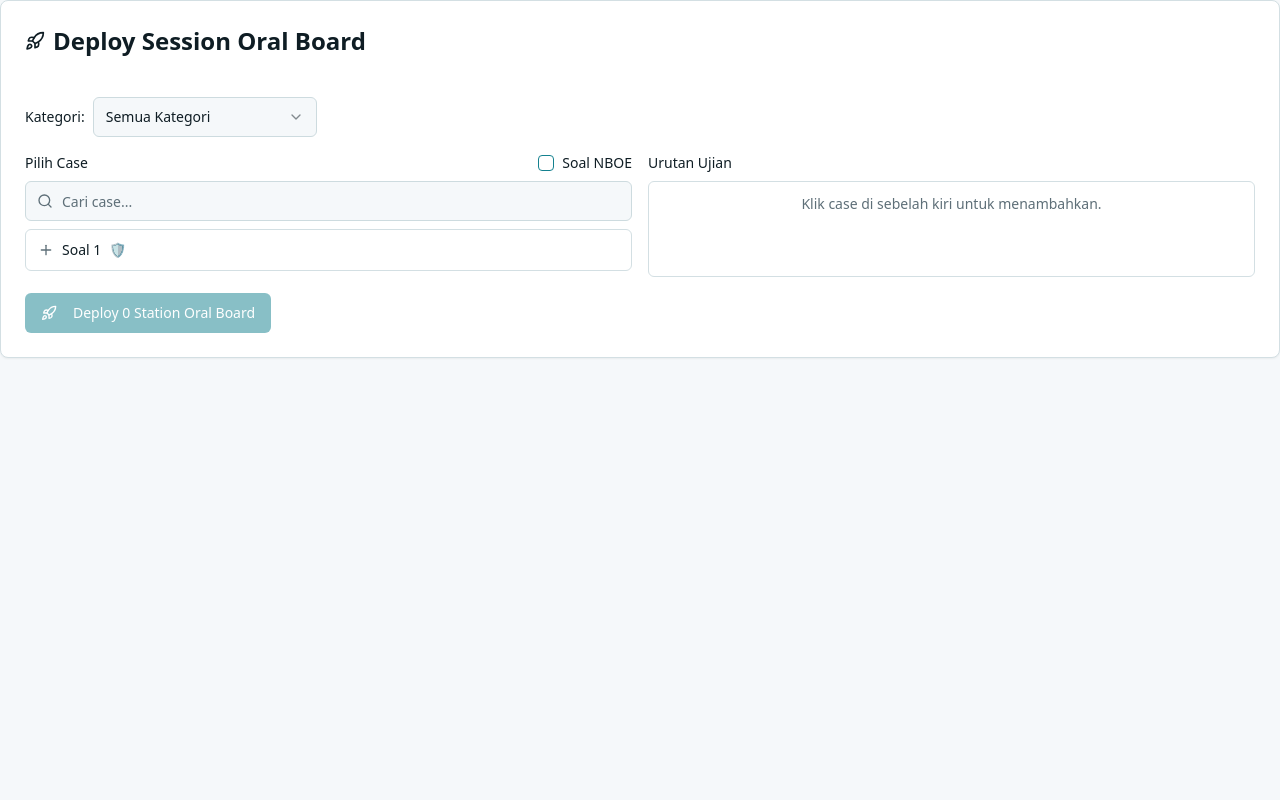
it: does not silently present a permission failure as an empty examiner directory
Click the button "Soal 1🛡️".
click(82, 250)  # box [26,230,631,270]
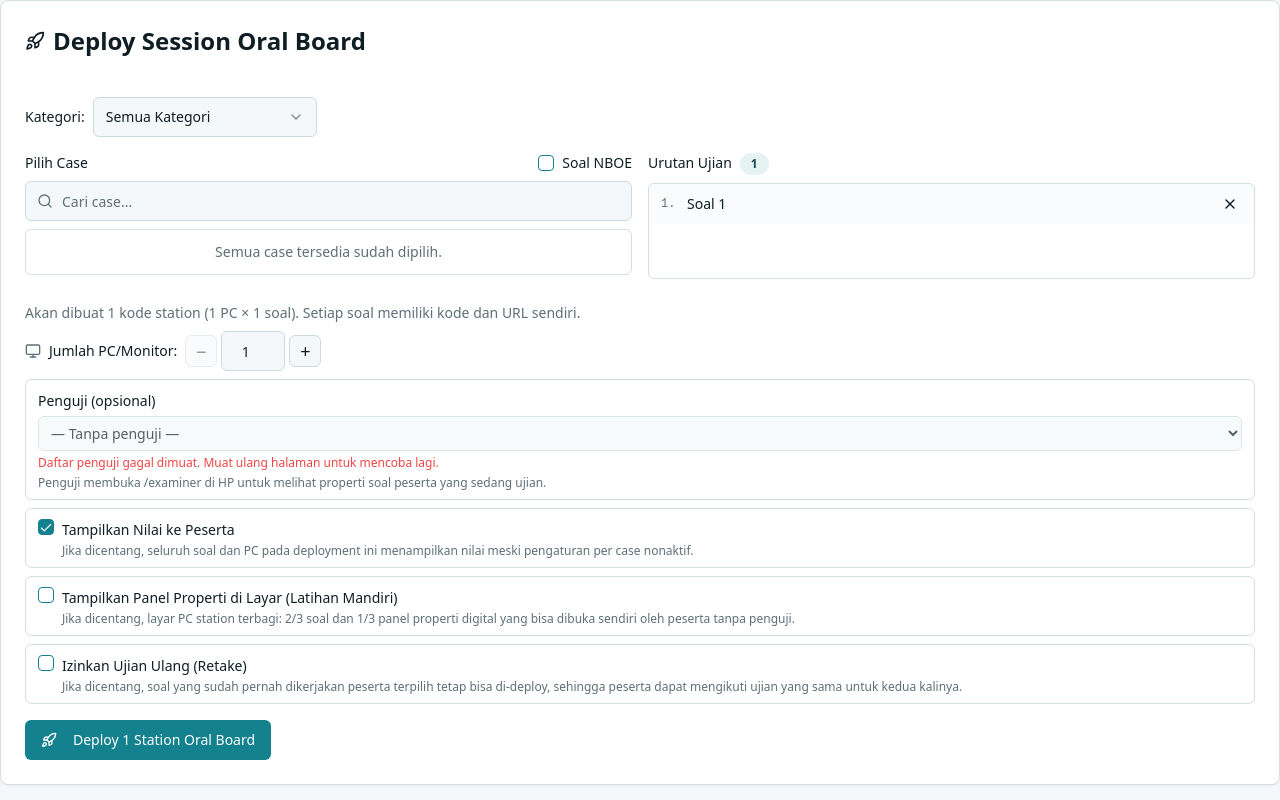
Now the text "Daftar penguji gagal dimuat. Muat ulang halaman untuk mencoba lagi." is shown, box [38,454,439,471]
Now the dropdown labelled "Penguji (opsional)" is disabled, box [38,416,1242,451]
